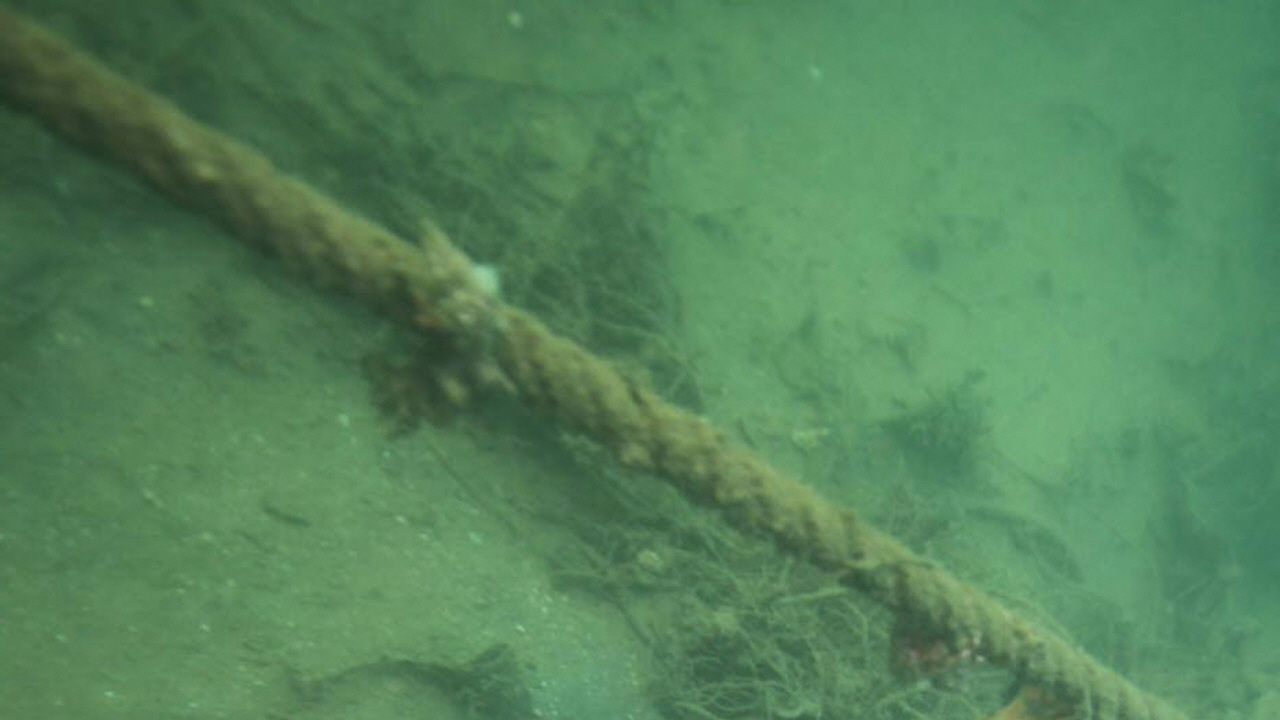rope: (0, 0, 1186, 720)
